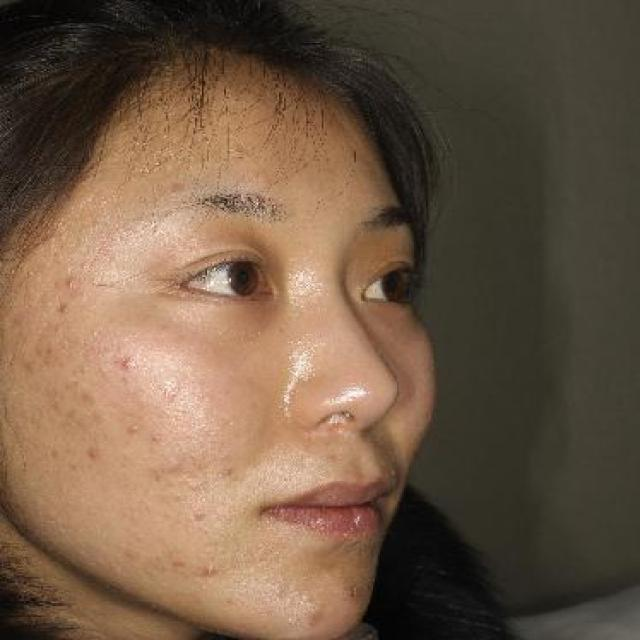papules: (116, 354, 140, 374), (199, 560, 224, 578), (55, 295, 72, 320), (164, 177, 192, 192), (61, 275, 85, 288)
